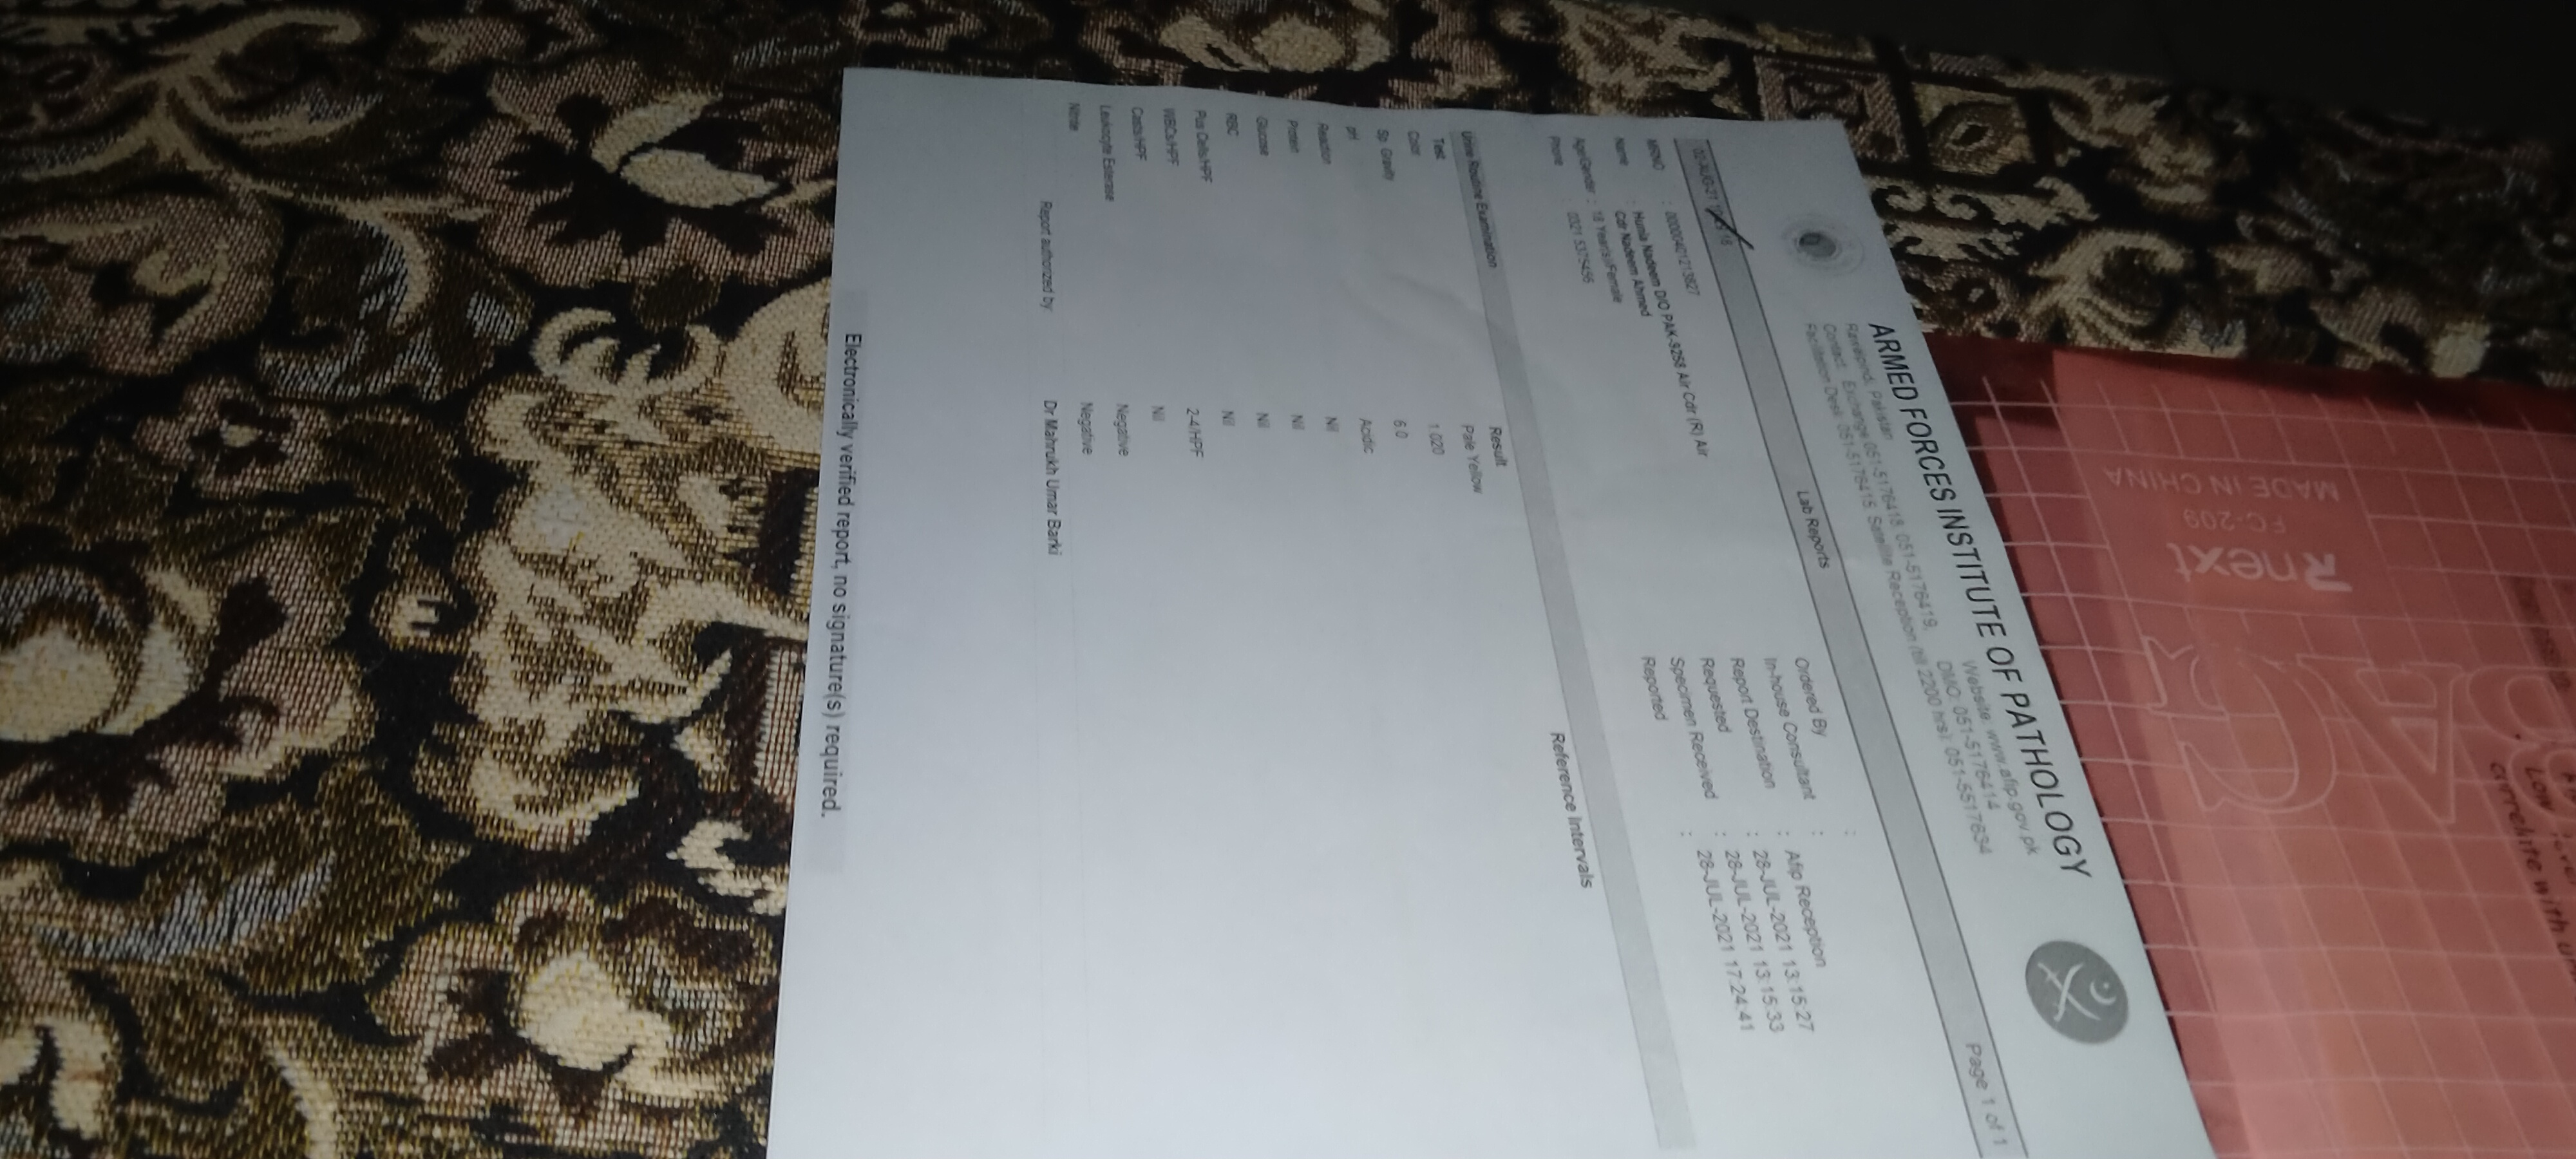report: (1010, 85, 1646, 1159)
